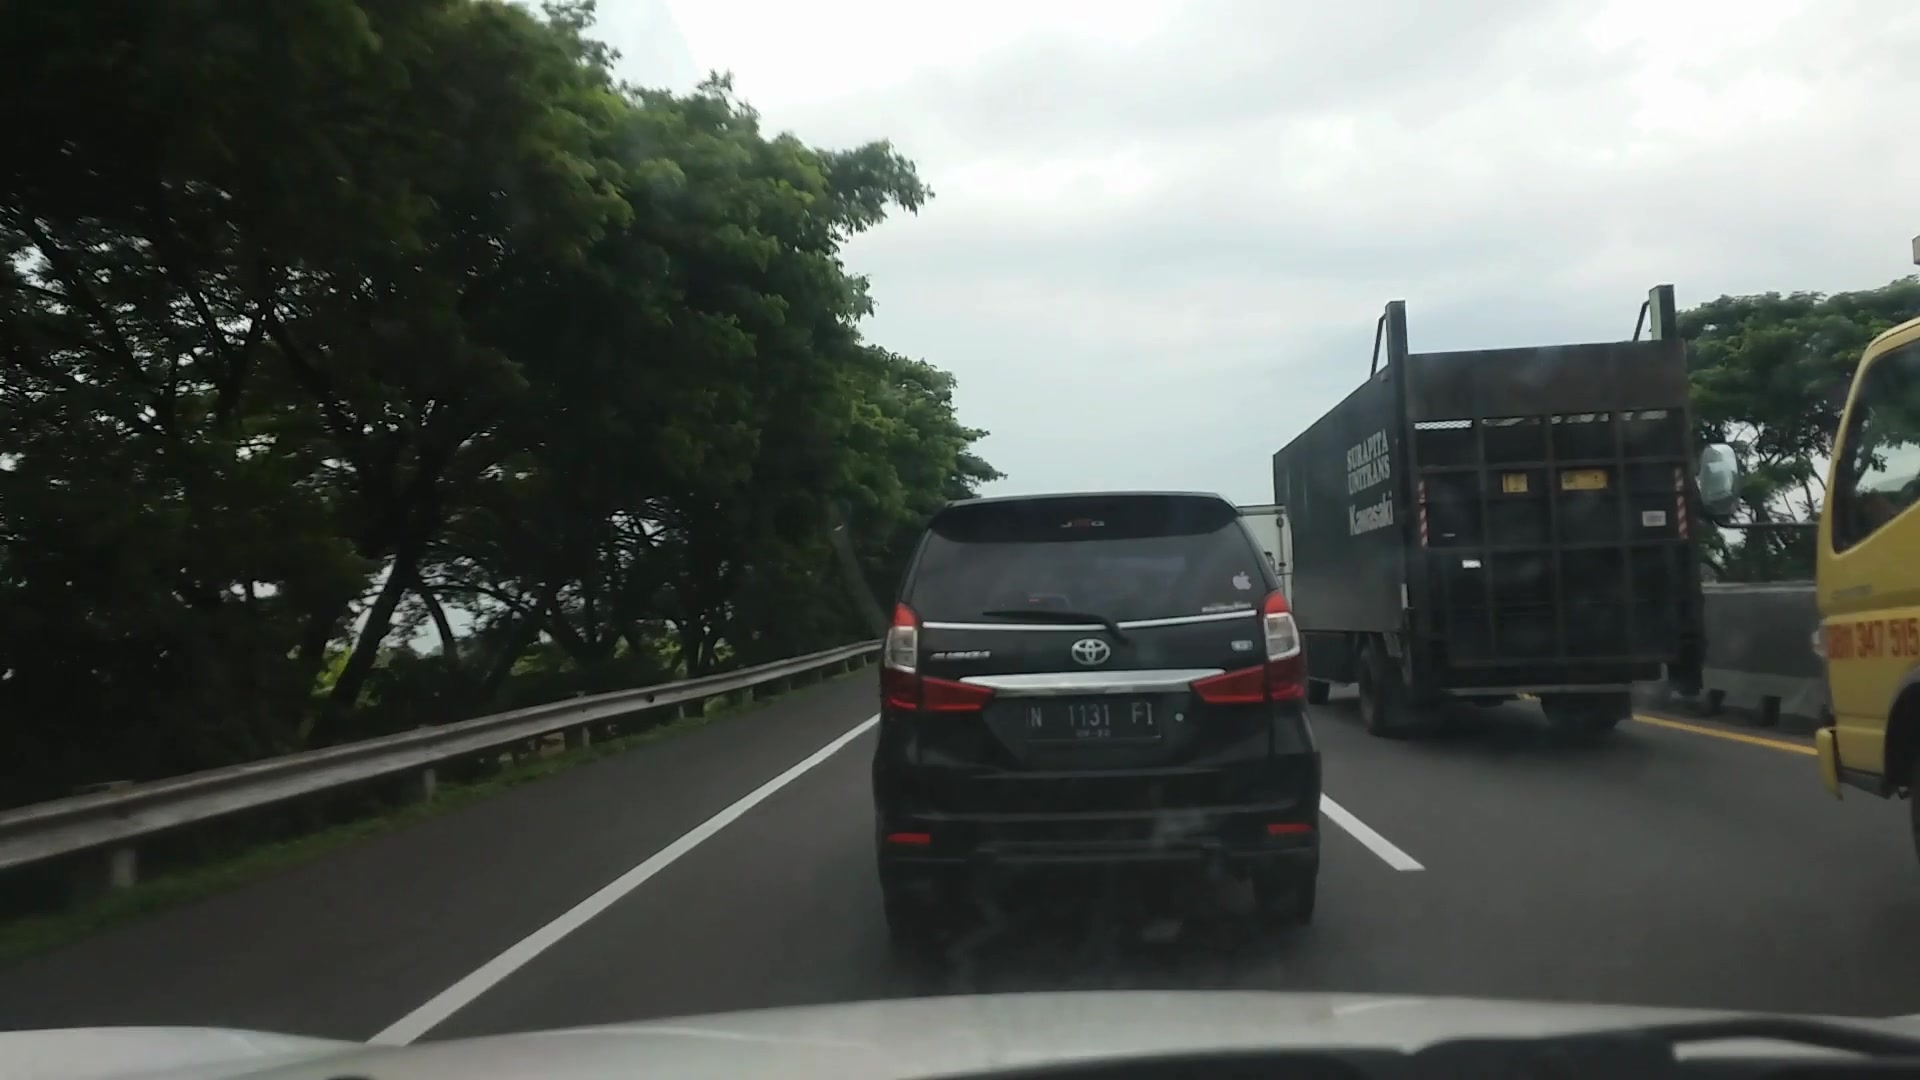plate_positive: (1026, 696, 1160, 738)
